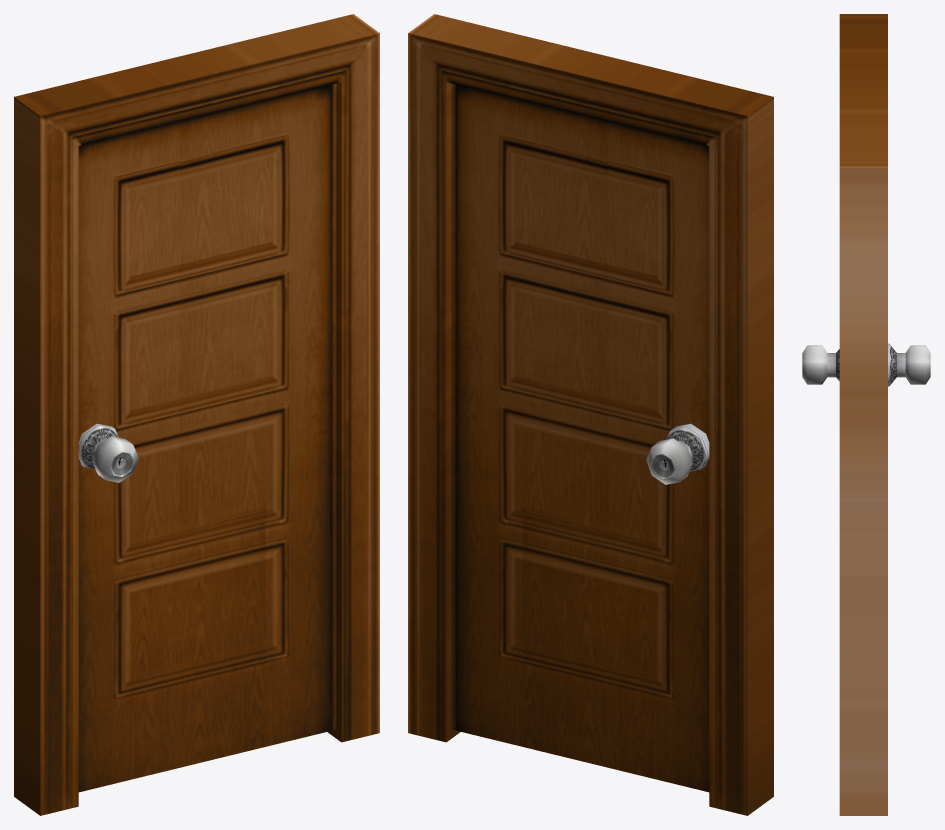
The model's file is All_Door_A.fbx.
The picture shows the model from 3 angles, left to right: view 1: azimuth 30°, elevation 25°; view 2: azimuth 150°, elevation 25°; view 3: azimuth 270°, elevation 25°; orthographic projection. The views are drawn at different scales.
Parts seen in each view (by area): view 1: DoorA, DootframeA, Doorknob.001; view 2: DoorA, DootframeA, Doorknob.001; view 3: DootframeA, Doorknob.001.
Boxes of the visible parts, <box> form: DoorA: <box>78,83,336,792</box>; DootframeA: <box>14,14,379,815</box>; Doorknob.001: <box>78,423,138,482</box>; DoorA: <box>451,83,709,792</box>; DootframeA: <box>408,14,773,815</box>; Doorknob.001: <box>646,423,709,484</box>; DootframeA: <box>839,14,887,815</box>; Doorknob.001: <box>802,343,930,386</box>.
Bounding box in the file's own units: 99.03 × 195 × 34.98.
